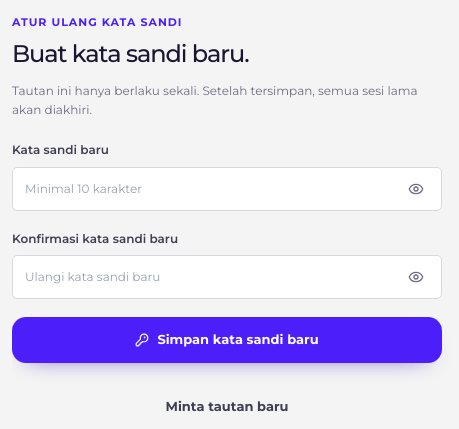
Test case: halaman atur ulang kata sandi › mengirim token dari URL bersama kata sandi baru
The image size is (459, 429).
In the password field labelled "Kata sandi baru": (227, 189) [12, 167, 442, 211], type "N3w-strong-password!"
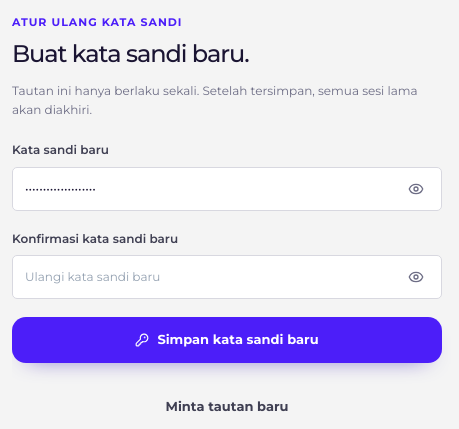
In the password field labelled "Konfirmasi kata sandi baru": (227, 277) [12, 255, 442, 299], type "N3w-strong-password!"
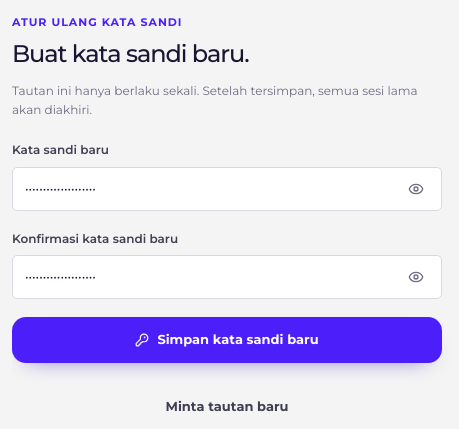
Click the button "Simpan kata sandi baru": (227, 340) [12, 317, 442, 363]
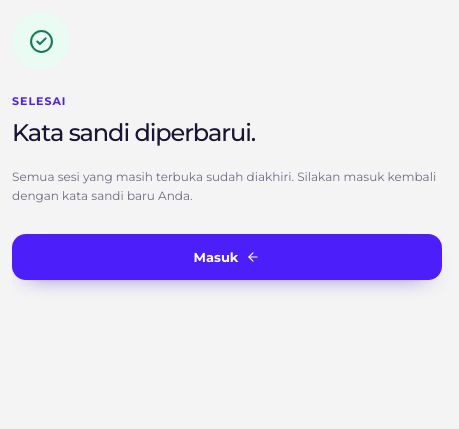
Expected: the heading "Kata sandi diperbarui." is shown, [12, 120, 255, 146]
